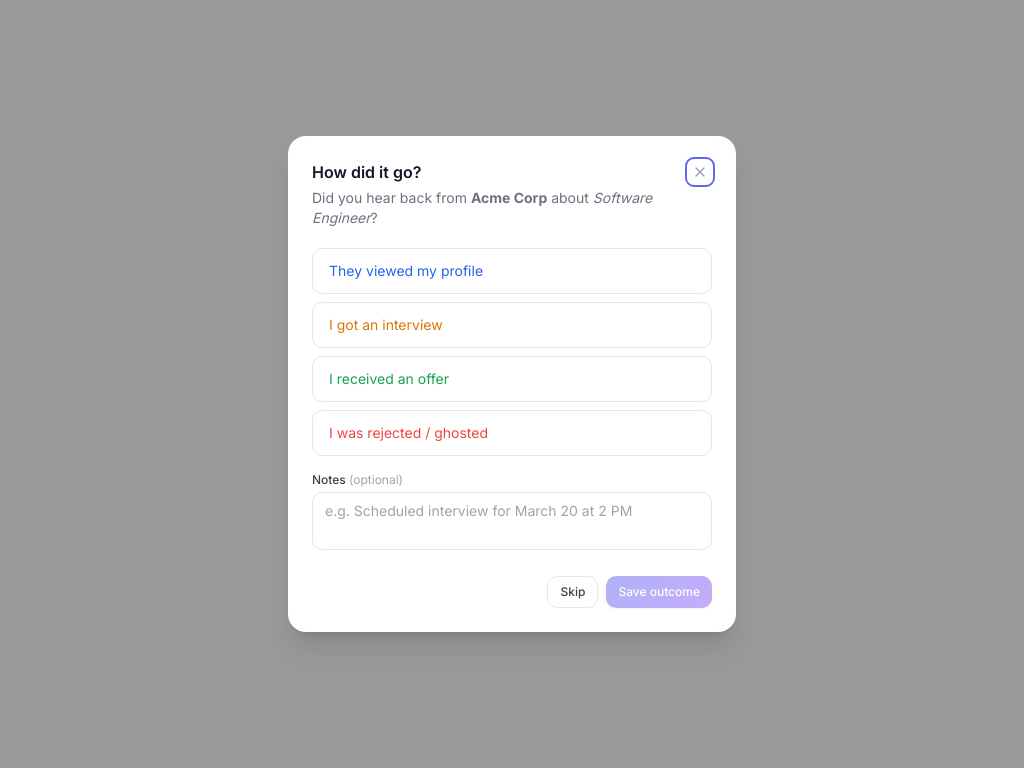
it: OutcomeEntryModal › Save outcome button is enabled after selecting an outcome
The image size is (1024, 768).
Click the button "I got an interview" at (386, 324), box [312,302,712,348]
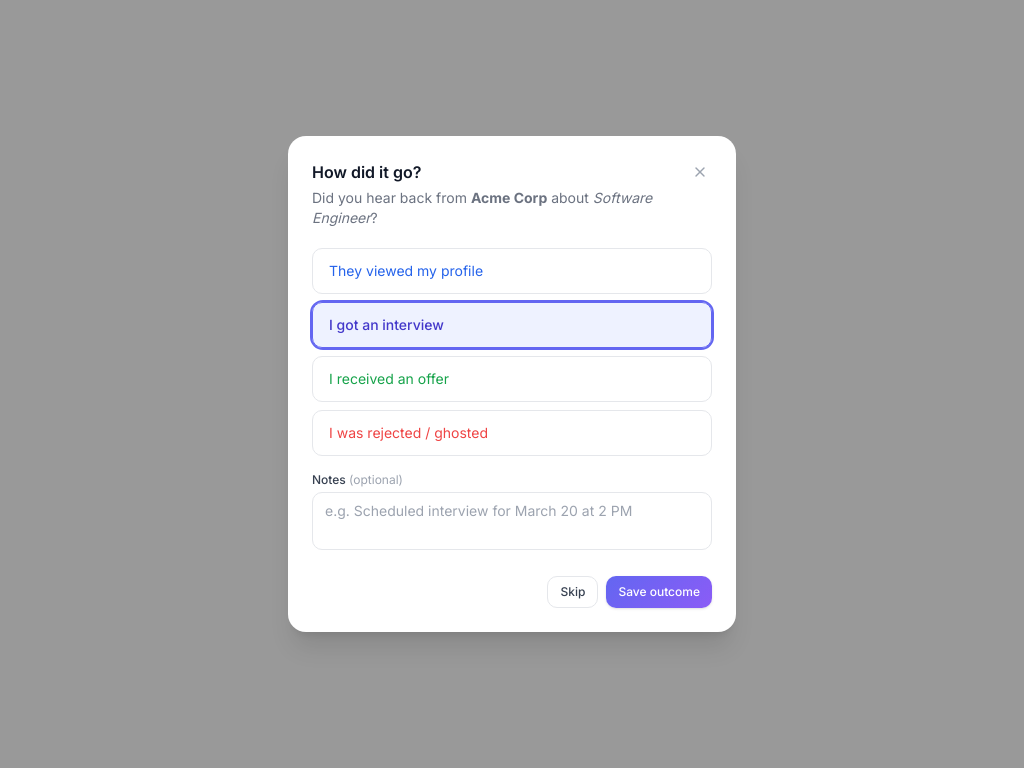
Now the button "Save outcome" is enabled, box [606,576,712,608]
